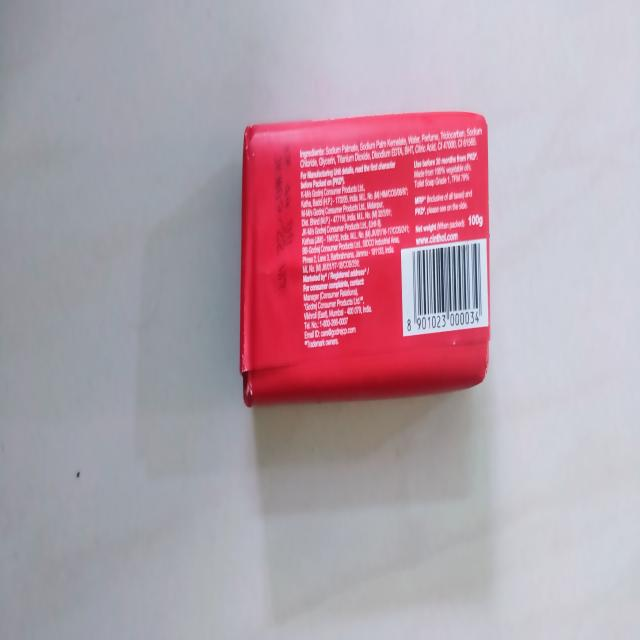soap: (233, 112, 496, 414)
